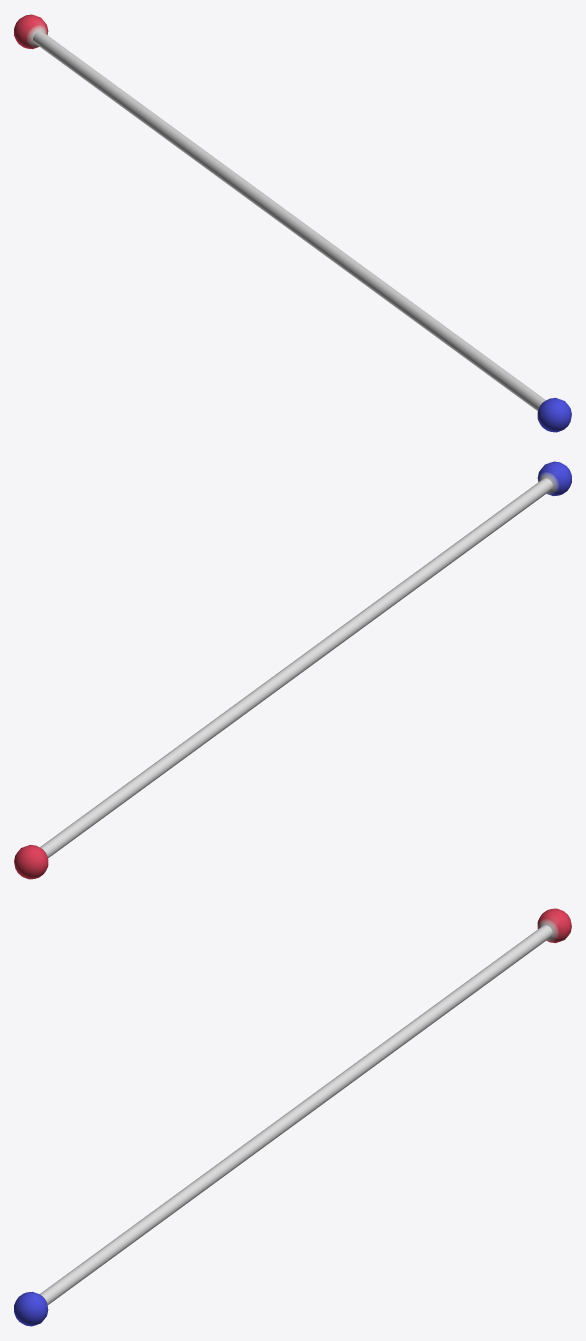
File: pole.glb
The picture shows the model from 3 angles, top to bottom: view 1: azimuth 30°, elevation 25°; view 2: azimuth 150°, elevation 25°; view 3: azimuth 330°, elevation 25°; orthographic projection.
Parts seen in each view (by area): view 1: Solid 4; view 2: Solid 4; view 3: Solid 4.
Boxes of the visible parts, bbox=[...] form: Solid 4: bbox=[14, 14, 571, 432]; Solid 4: bbox=[14, 461, 571, 879]; Solid 4: bbox=[14, 908, 571, 1326].
Size of the model in its own units: 0.0989 by 0.0994 by 3.1.
